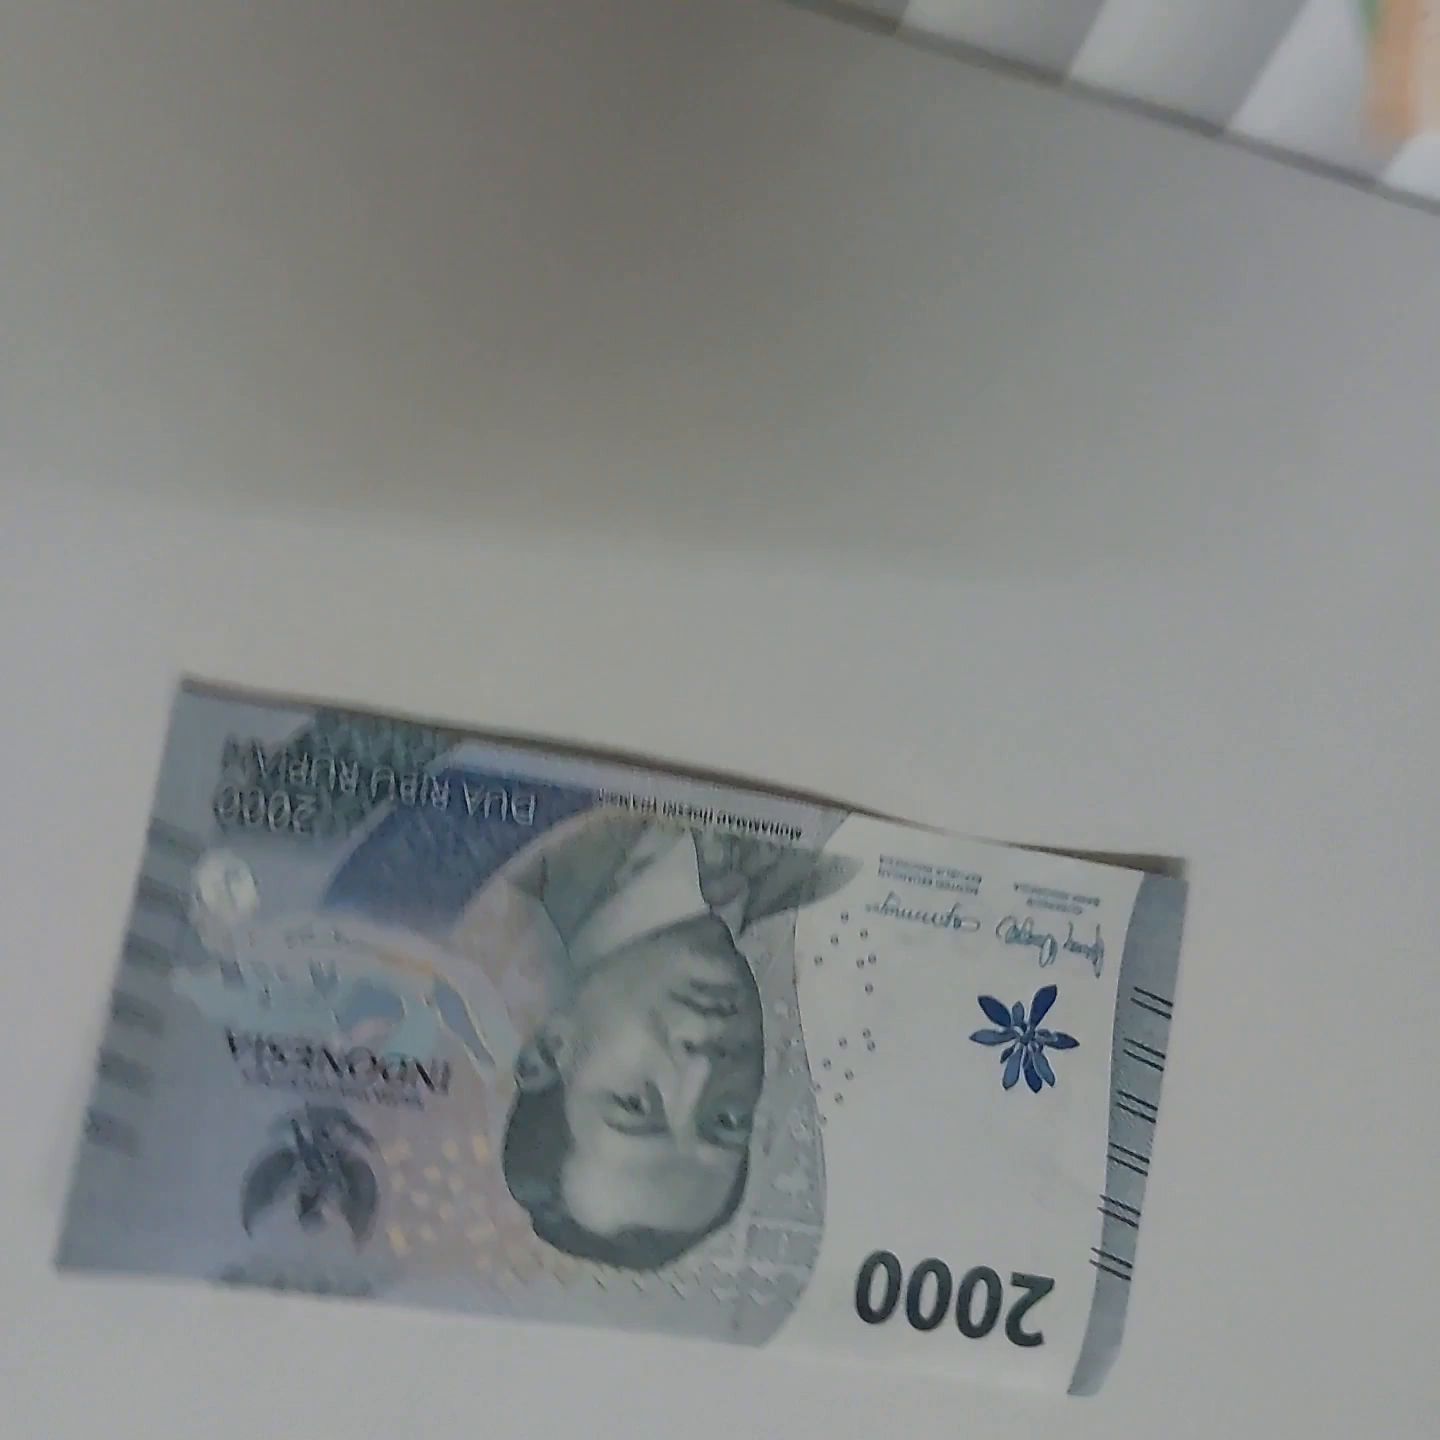2k: (90, 605, 1199, 1399)
